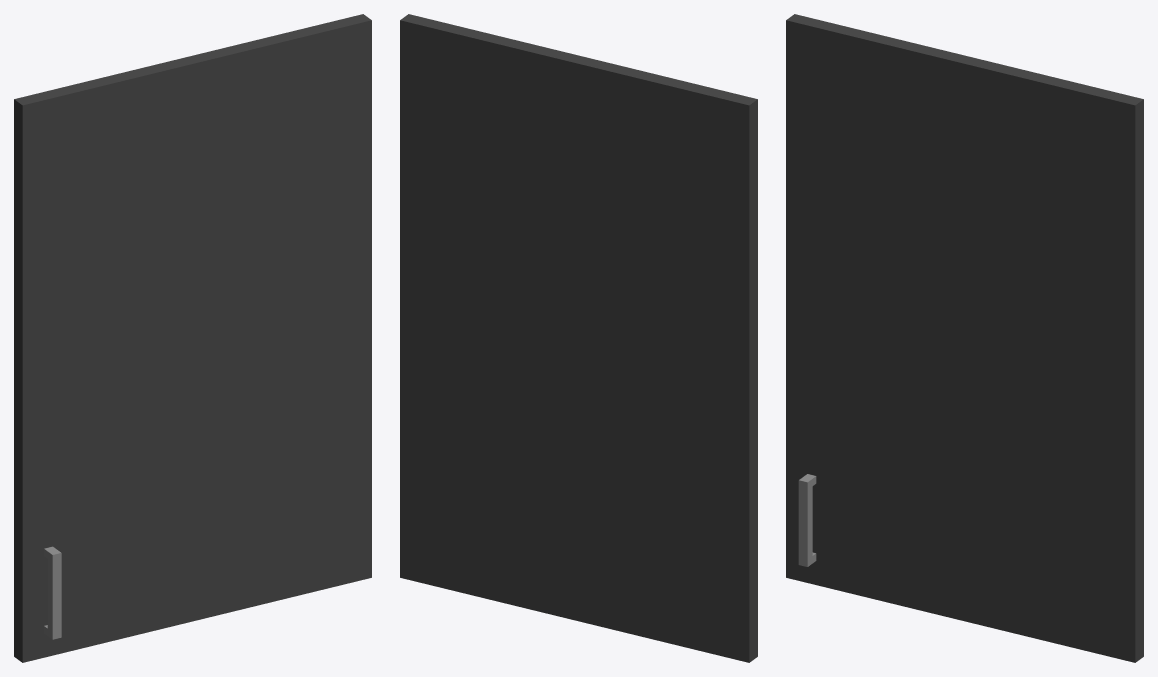
The model's file is Door1_C3_11.fbx.
3 renders of one model, left to right at view 1: azimuth 30°, elevation 25°; view 2: azimuth 150°, elevation 25°; view 3: azimuth 330°, elevation 25°, orthographic.
Visible parts, largest first — view 1: Door1_C3_11; view 2: Door1_C3_11; view 3: Door1_C3_11.
Part boxes in pixels (<box>): Door1_C3_11: <box>14,14,371,662</box>; Door1_C3_11: <box>400,14,757,662</box>; Door1_C3_11: <box>786,14,1143,662</box>.
Bounding box in the file's own units: 59 × 90 × 5.03.
